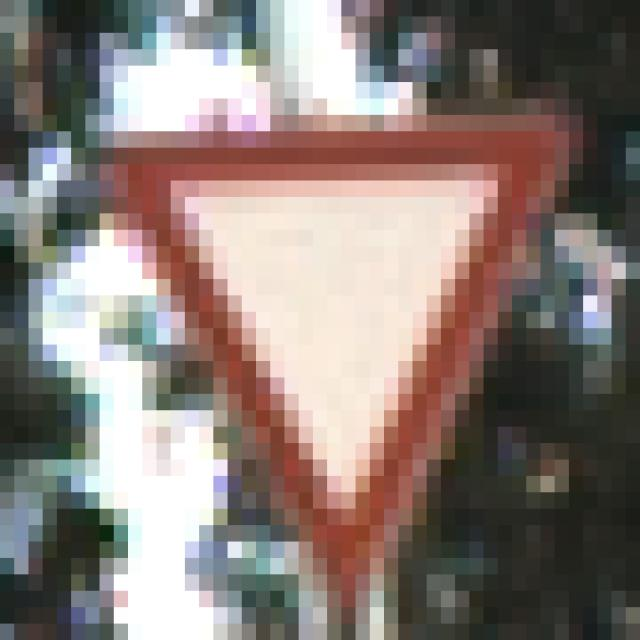Give Way: (86, 83, 556, 543)
